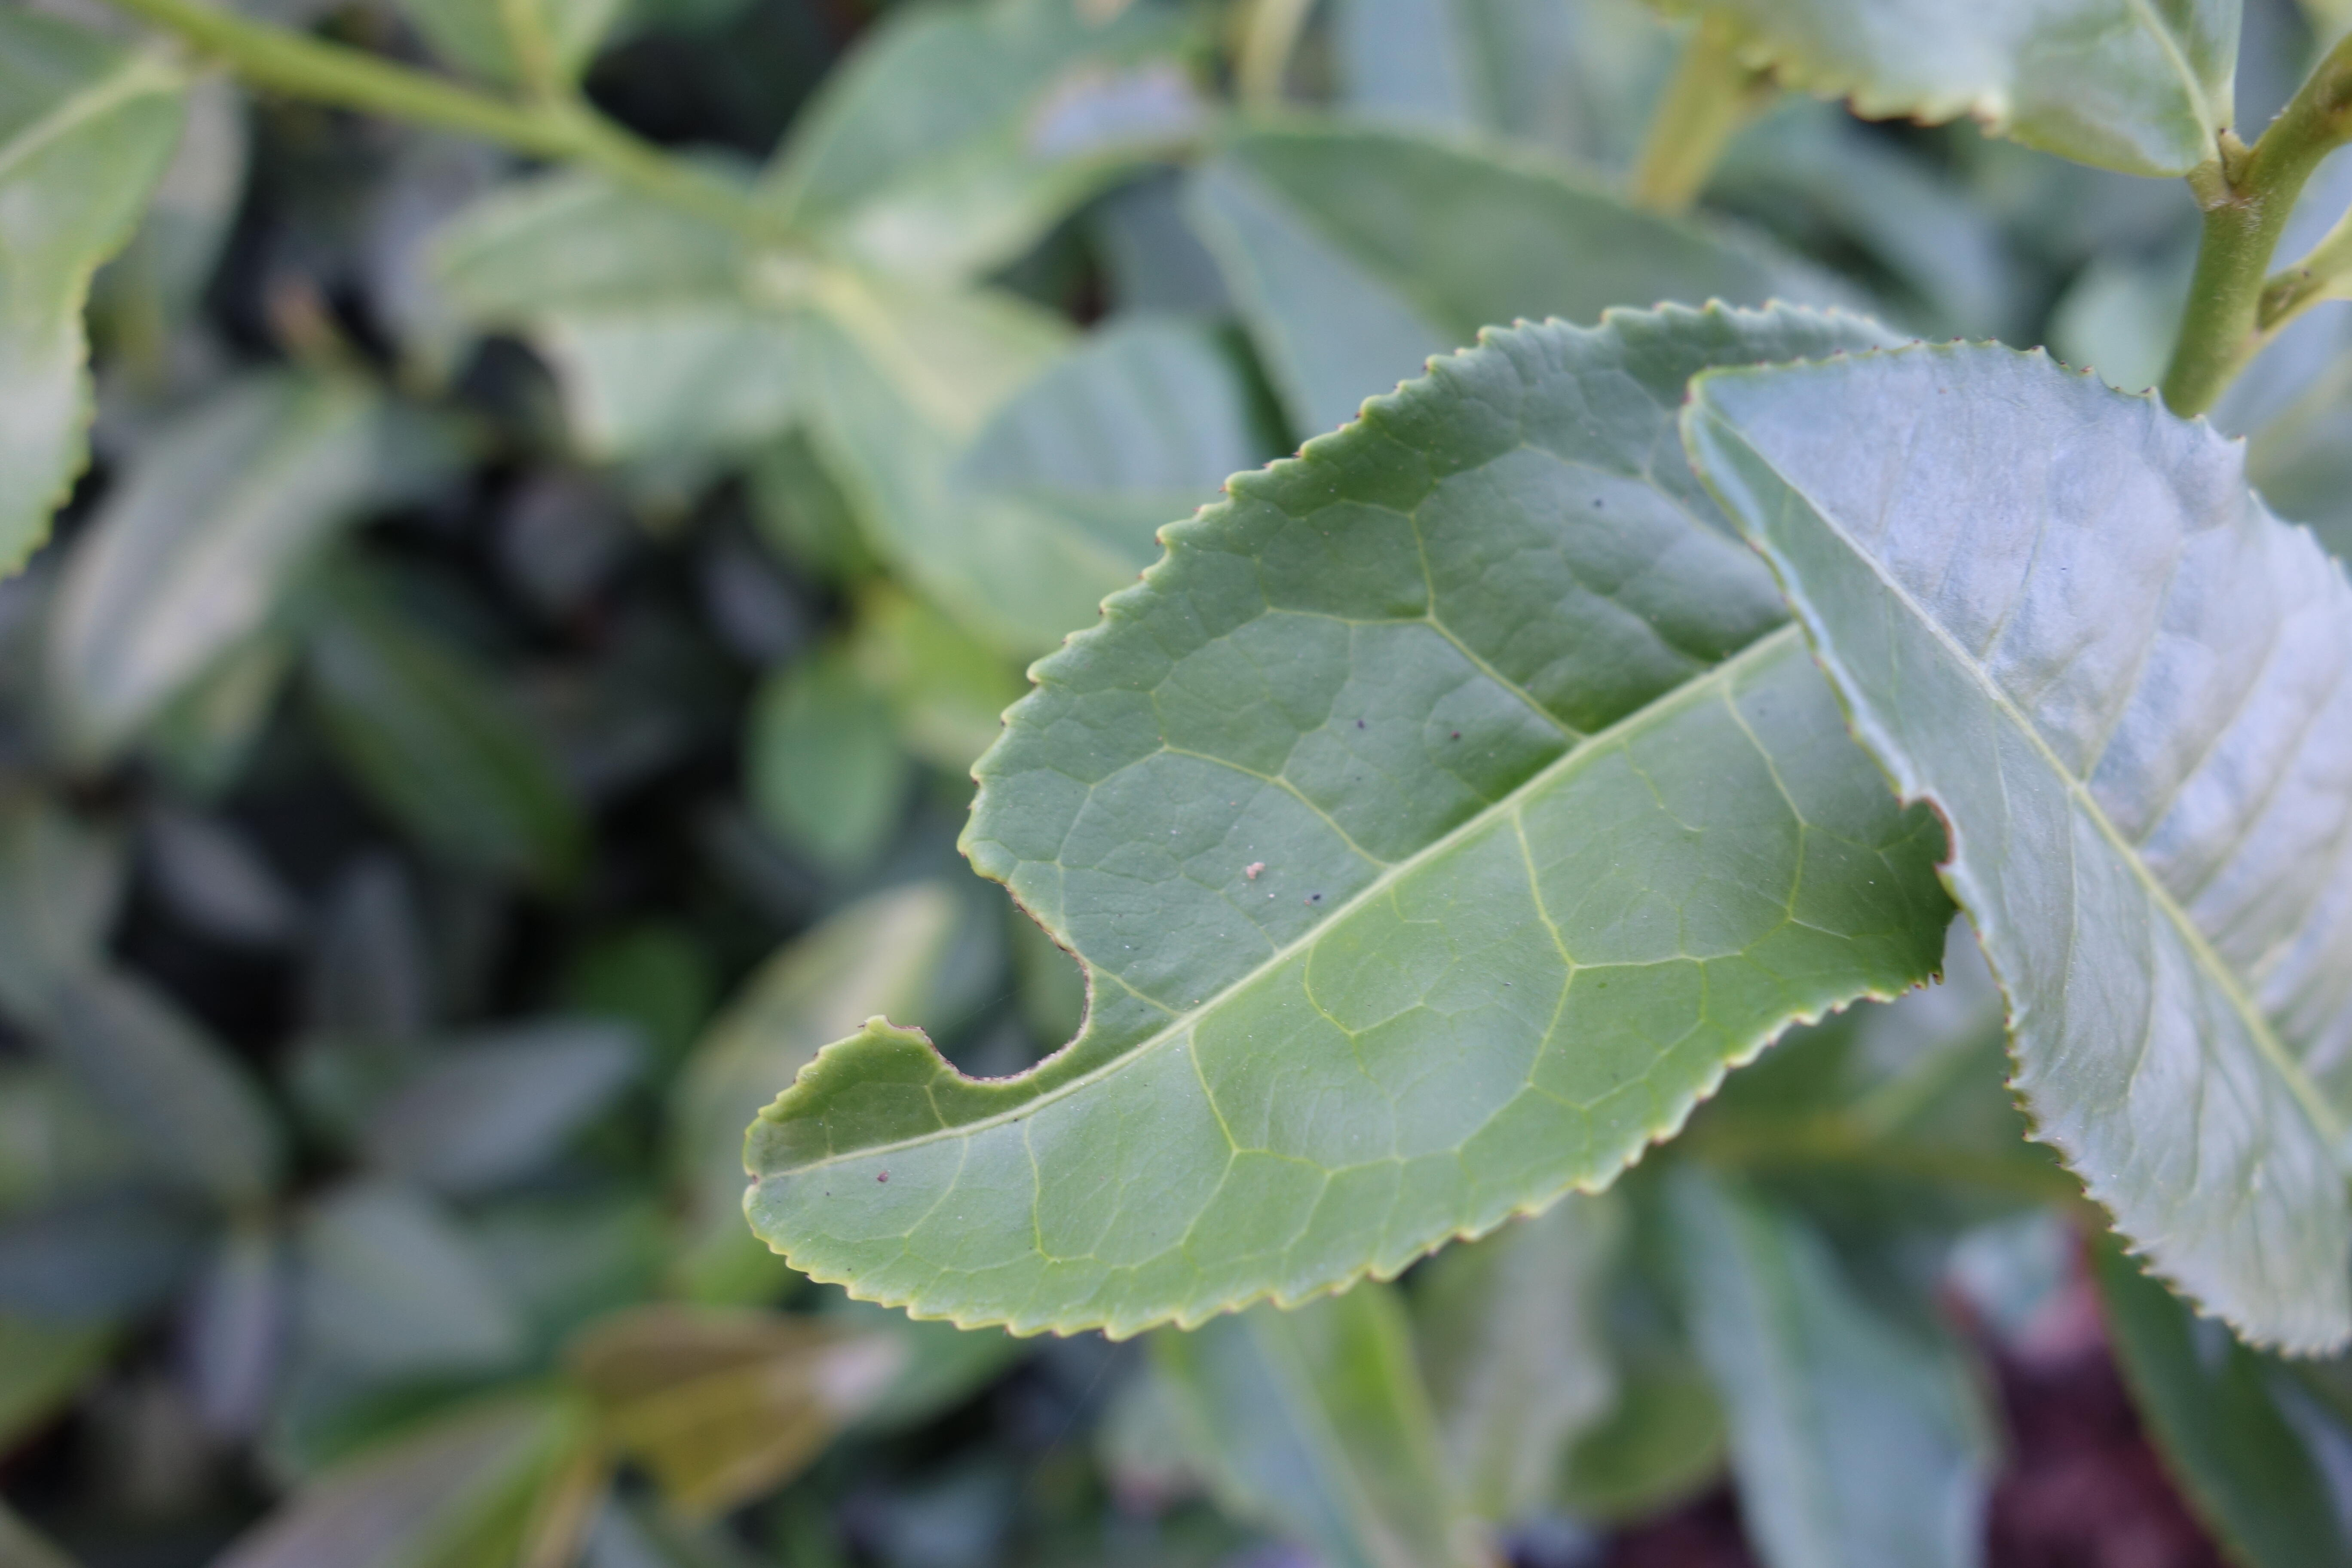chihuo_low: (738, 296, 1956, 1347), (1676, 334, 2345, 1361)
